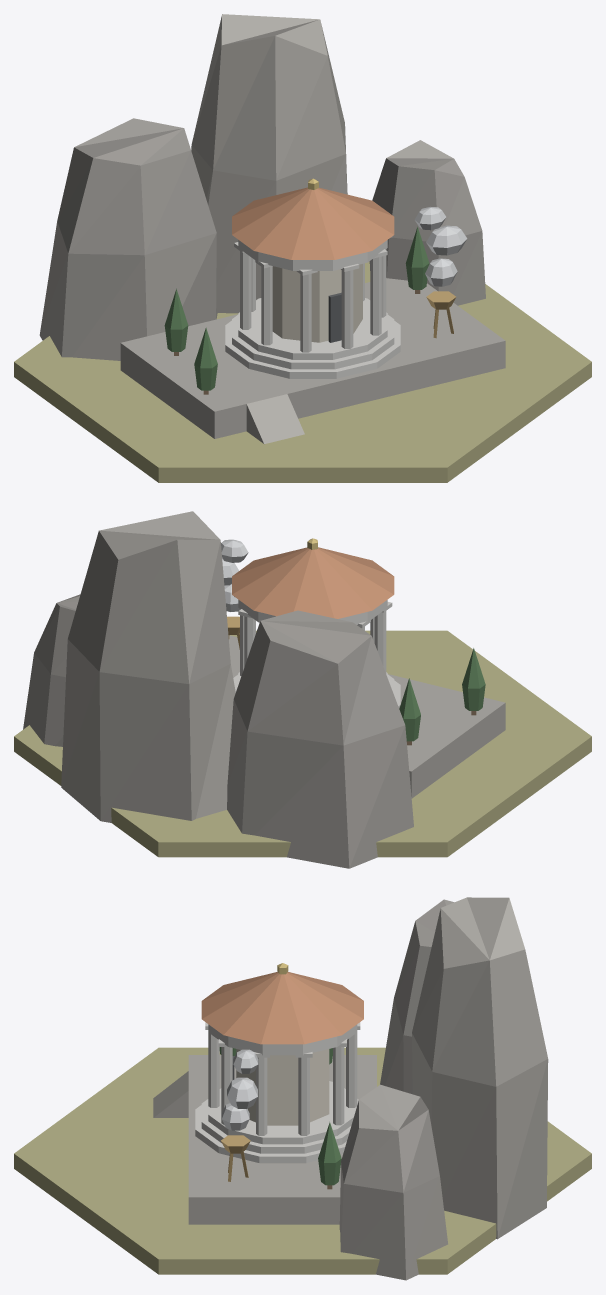
Rendered from oracle.glb.
3 views of the same model, one above another, from view 1: azimuth 30°, elevation 25°; view 2: azimuth 150°, elevation 25°; view 3: azimuth 270°, elevation 25° (orthographic).
Parts seen in each view (by area): view 1: LOD0; view 2: LOD0; view 3: LOD0.
Boxes of the visible parts, <box> form: LOD0: <box>14,14,591,482</box>; LOD0: <box>14,511,591,868</box>; LOD0: <box>14,897,591,1280</box>.
Size of what is drawn, in the model's own units: 1.53 by 0.9256 by 1.72.
